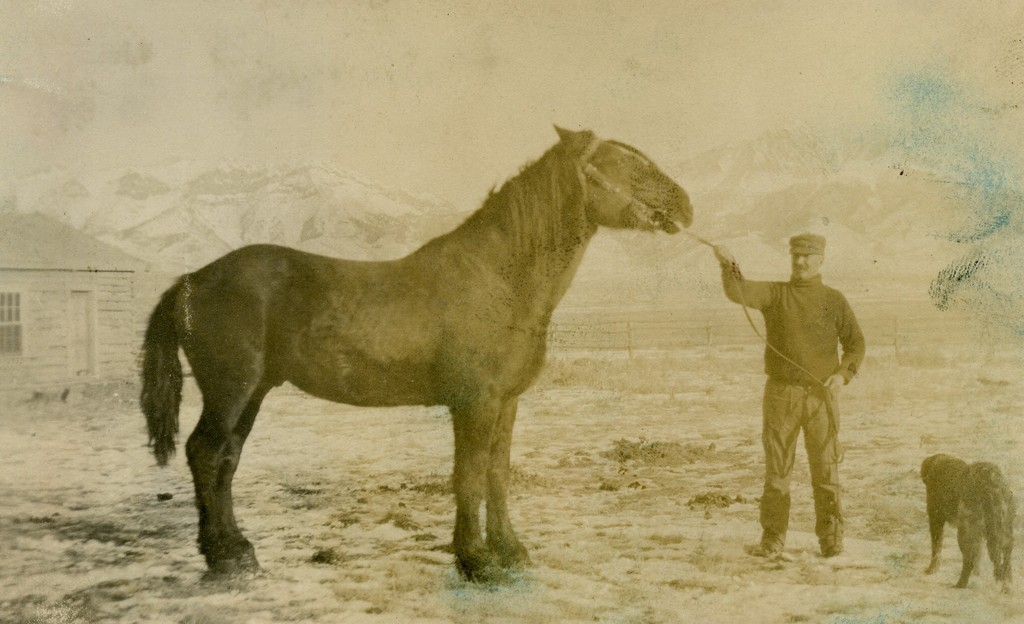horse: (141, 120, 695, 581)
